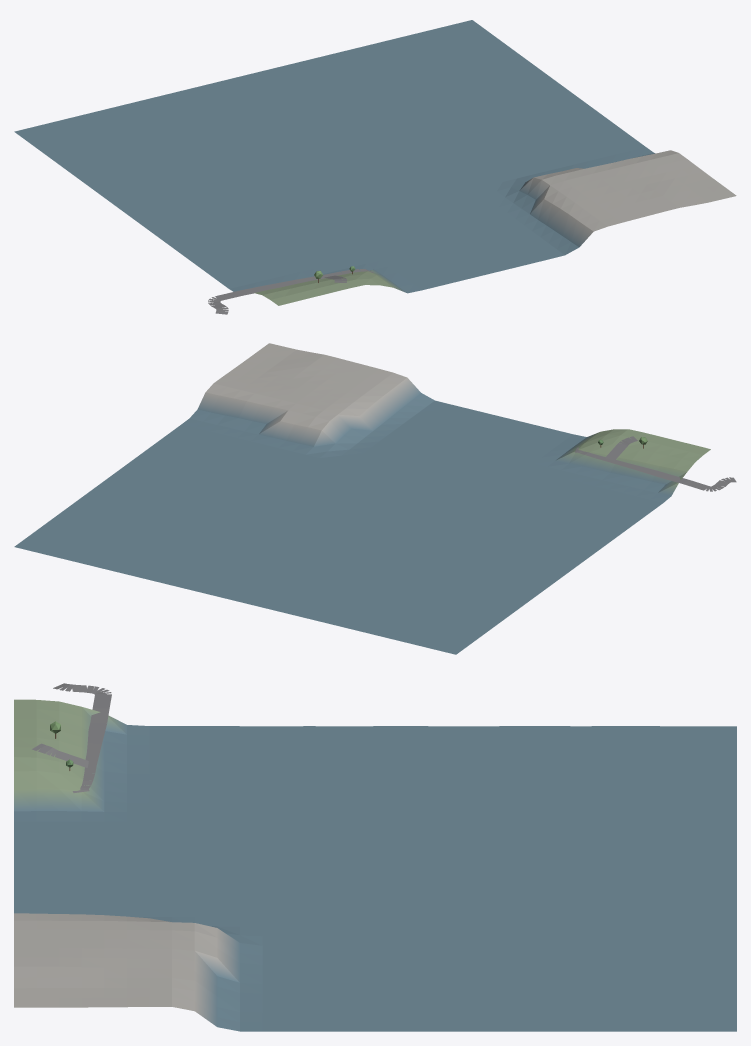
Rendered from tile_1_1.glb.
The picture shows the model from 3 angles, top to bottom: view 1: azimuth 30°, elevation 25°; view 2: azimuth 150°, elevation 25°; view 3: azimuth 270°, elevation 25°; orthographic projection. The views are drawn at different scales.
Visible parts, largest first — view 1: terrain, roads; view 2: terrain, roads; view 3: terrain, roads.
Part boxes in pixels (x1,y1,x2,y2): terrain: (14, 20, 736, 305); roads: (208, 269, 373, 314); terrain: (14, 343, 710, 654); roads: (574, 436, 736, 491); terrain: (14, 699, 736, 1031); roads: (32, 683, 111, 792).
Size of the model in its own units: 281 by 15.76 by 256.
